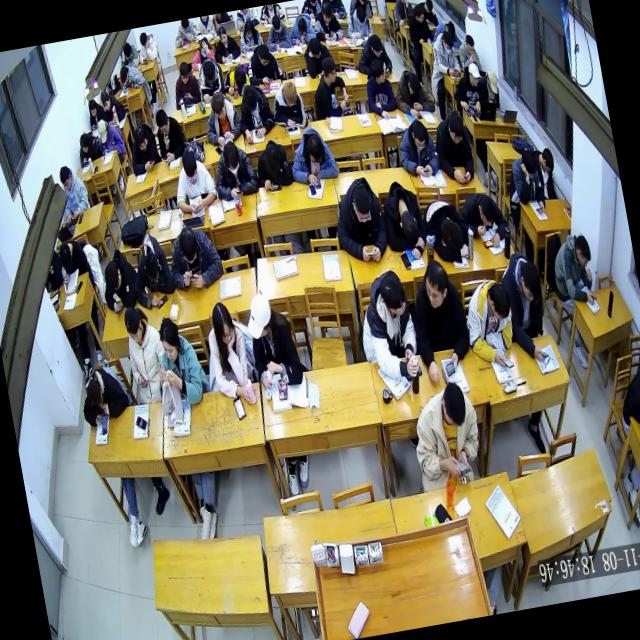bow: (376, 176, 431, 264), (124, 230, 180, 316), (420, 195, 472, 268), (76, 362, 132, 428), (96, 245, 146, 318), (284, 122, 340, 187), (458, 187, 511, 253), (390, 65, 437, 122), (250, 136, 296, 194), (124, 120, 164, 178), (352, 31, 394, 82), (193, 56, 227, 104), (301, 34, 335, 79), (219, 60, 252, 100), (186, 34, 218, 72), (285, 10, 317, 47), (118, 62, 148, 94), (170, 18, 197, 48), (118, 39, 141, 70), (417, 0, 439, 28)
down: (438, 378, 470, 434), (155, 316, 184, 366), (210, 299, 238, 350), (516, 258, 544, 304), (486, 278, 513, 323), (121, 304, 146, 348), (176, 224, 200, 268), (349, 184, 374, 226), (444, 108, 468, 146), (180, 148, 202, 188), (220, 140, 243, 178), (83, 378, 106, 416), (262, 141, 284, 179), (476, 192, 499, 228), (304, 131, 326, 168), (140, 248, 162, 284), (102, 258, 124, 294), (572, 233, 593, 270), (208, 89, 230, 123), (408, 118, 429, 153), (519, 148, 538, 182), (154, 108, 172, 140), (56, 240, 75, 270), (242, 84, 260, 115), (132, 123, 150, 154), (404, 70, 422, 100), (538, 146, 556, 176), (282, 79, 300, 108), (57, 163, 74, 193), (368, 32, 386, 60), (200, 59, 218, 86), (485, 68, 501, 98), (466, 60, 482, 89), (439, 29, 456, 56), (230, 65, 248, 90), (255, 43, 272, 69), (95, 118, 110, 146), (307, 36, 323, 60), (177, 60, 192, 85), (353, 5, 368, 28), (320, 2, 334, 26), (412, 2, 426, 26), (270, 12, 284, 35), (78, 132, 90, 156), (464, 34, 476, 58), (296, 15, 308, 38), (118, 64, 131, 85), (242, 18, 255, 39), (100, 91, 112, 113), (216, 24, 228, 46), (86, 98, 98, 119), (138, 30, 150, 51), (198, 38, 210, 58), (122, 41, 134, 60), (422, 0, 434, 14)
lookup: (396, 0, 408, 5)
sit: (402, 252, 478, 388), (404, 378, 490, 498), (350, 266, 426, 386), (495, 247, 555, 368), (197, 296, 258, 411), (240, 287, 306, 393), (327, 172, 392, 270), (457, 274, 522, 372), (146, 311, 208, 413), (119, 300, 174, 408), (162, 220, 226, 296), (546, 231, 600, 311), (428, 106, 478, 188), (167, 144, 220, 217), (208, 135, 260, 203), (392, 115, 442, 181), (232, 78, 278, 147), (306, 53, 351, 120), (198, 86, 244, 150), (507, 146, 547, 218), (360, 56, 400, 122), (150, 104, 189, 166), (267, 78, 310, 134), (56, 160, 92, 224), (242, 40, 286, 90), (449, 60, 487, 114), (428, 28, 462, 82), (168, 59, 202, 112), (614, 367, 640, 434), (530, 143, 560, 201), (56, 237, 90, 286), (309, 0, 345, 45), (94, 115, 126, 158), (210, 22, 242, 65), (261, 12, 293, 54), (403, 1, 432, 47), (342, 2, 374, 42), (454, 32, 482, 74), (99, 86, 128, 126), (478, 68, 504, 112), (235, 16, 265, 54), (74, 129, 102, 168), (134, 29, 160, 66), (85, 96, 108, 130), (390, 0, 415, 24)
